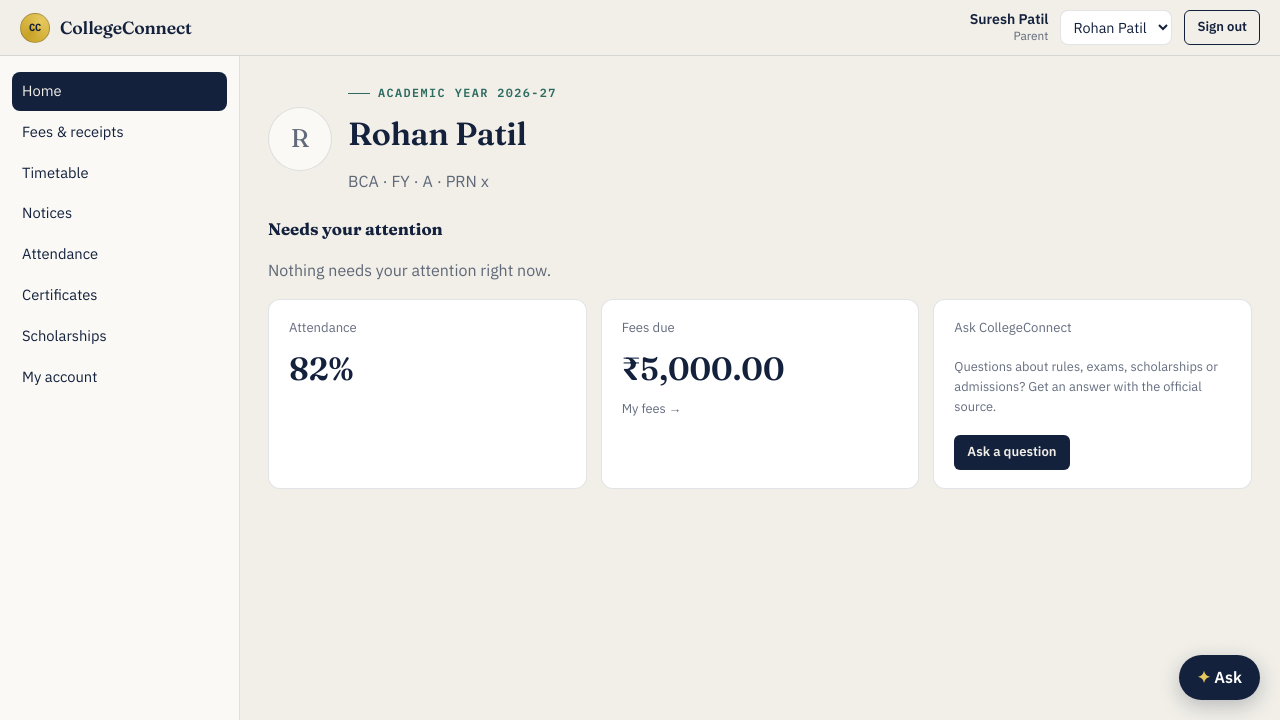
Scenario: parents › switch between children; the menu follows what each child shares
Expected: the heading "Rohan Patil" is shown, left=348, top=116, right=557, bottom=153
Expected: the link "Exams & results" is not shown
Select "Neha Patil" in the dropdown named "Showing": (1116, 28) left=1060, top=10, right=1172, bottom=45
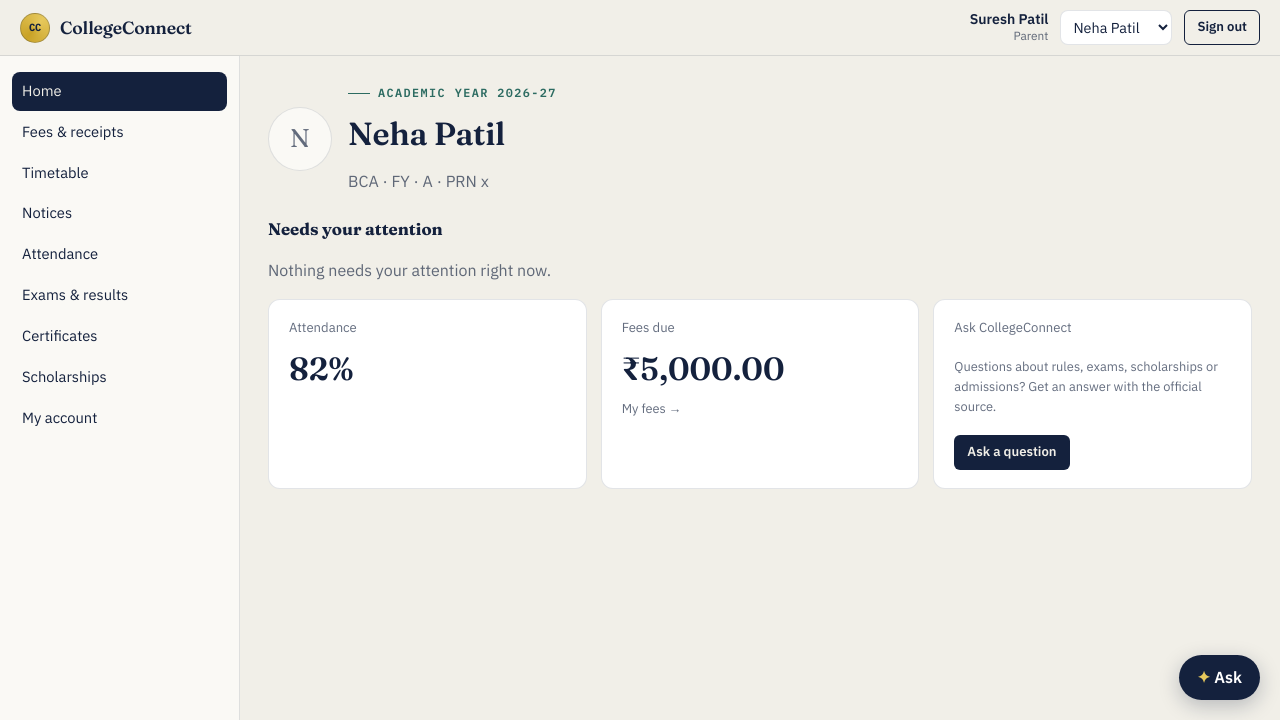
Now the heading "Neha Patil" is shown, box left=348, top=114, right=505, bottom=153
Now the link "Exams & results" is shown, box left=22, top=285, right=128, bottom=304
